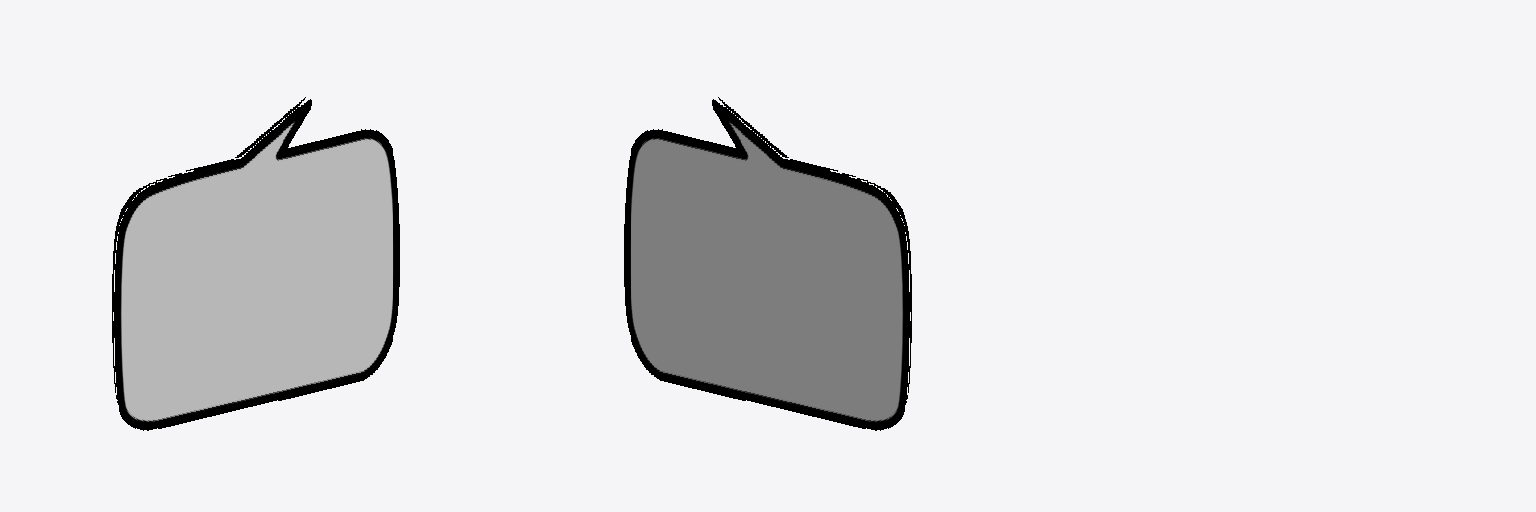
3 views of the same model, side by side, from view 1: azimuth 30°, elevation 25°; view 2: azimuth 150°, elevation 25°; view 3: azimuth 270°, elevation 25° (orthographic).
Bounding box in the file's own units: 1 × 1 × 0.
1 materials, 1 textured.